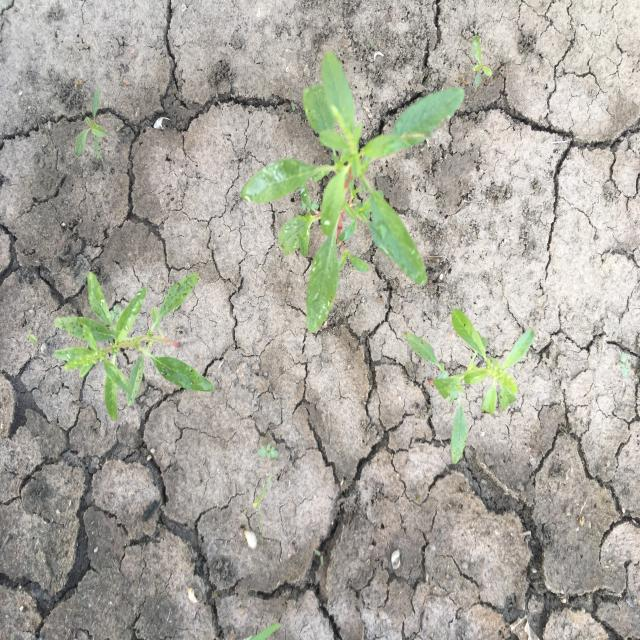Waterhemp: (240, 50, 466, 332), (53, 269, 215, 423), (403, 308, 535, 465), (73, 87, 107, 160)
